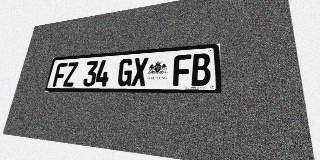3: (82, 61, 99, 86)
4: (95, 60, 111, 86)
B: (191, 53, 211, 86)
F: (173, 54, 191, 86), (52, 63, 68, 87)
G: (117, 58, 134, 86)
X: (131, 57, 149, 86)
Z: (63, 62, 78, 87)
